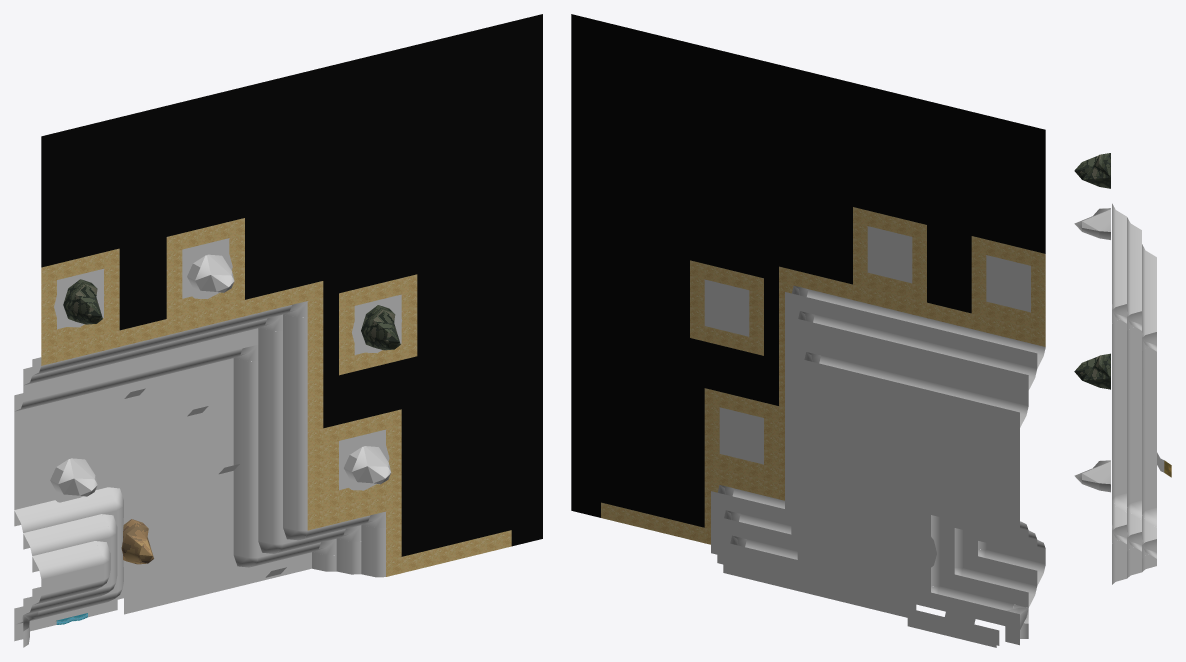
The model's file is Uluru-Cave-3_03_00.obj.
The picture shows the model from 3 angles, left to right: view 1: azimuth 30°, elevation 25°; view 2: azimuth 150°, elevation 25°; view 3: azimuth 270°, elevation 25°; orthographic projection. The views are drawn at different scales.
Parts seen in each view (by area): view 1: map; view 2: map; view 3: map.
Part boxes in pixels (x1,y1,x2,y2): map: (14, 14, 542, 647); map: (571, 14, 1045, 647); map: (1074, 153, 1171, 584).
Size of the model in its own units: 32 by 32 by 6.54.
